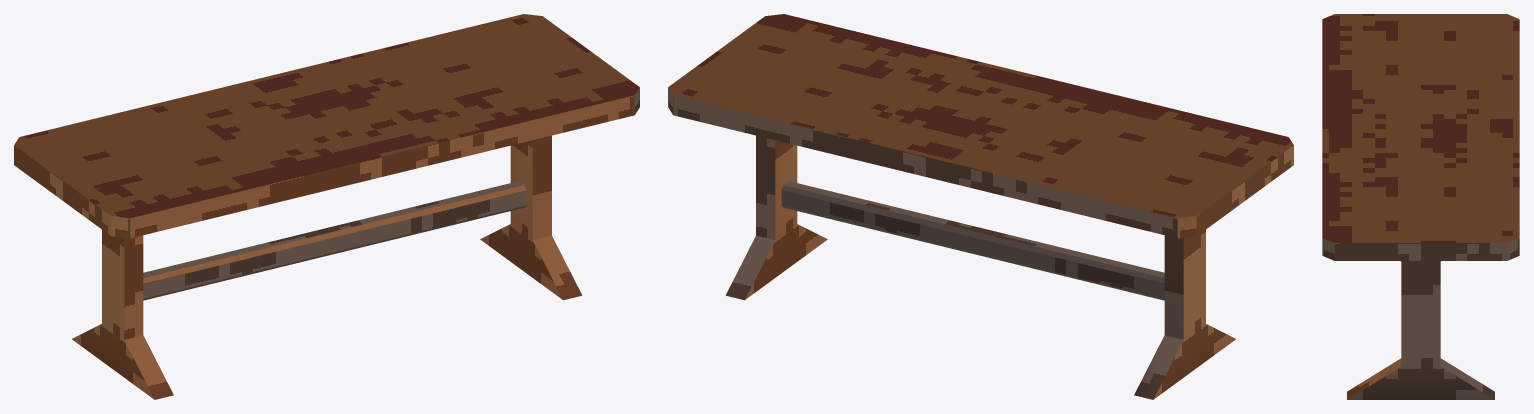
Rendered from wprop.table__long.glb.
3 renders of one model, left to right at view 1: azimuth 30°, elevation 25°; view 2: azimuth 150°, elevation 25°; view 3: azimuth 270°, elevation 25°, orthographic. The views are drawn at different scales.
Parts seen in each view (by area): view 1: kit_top, kit_legs, kit_stretcher; view 2: kit_top, kit_legs, kit_stretcher; view 3: kit_top, kit_legs.
Part boxes in pixels (box(x1,y1,x2,y2)): kit_top: box(14, 14, 639, 238); kit_legs: box(72, 135, 582, 399); kit_stretcher: box(143, 181, 526, 300); kit_top: box(668, 14, 1293, 238); kit_legs: box(725, 135, 1235, 399); kit_stretcher: box(781, 181, 1164, 300); kit_top: box(1322, 14, 1519, 260); kit_legs: box(1347, 261, 1494, 399).
Bounding box in the file's own units: 2.2 × 0.8 × 0.8.
2 materials, 2 textured.
